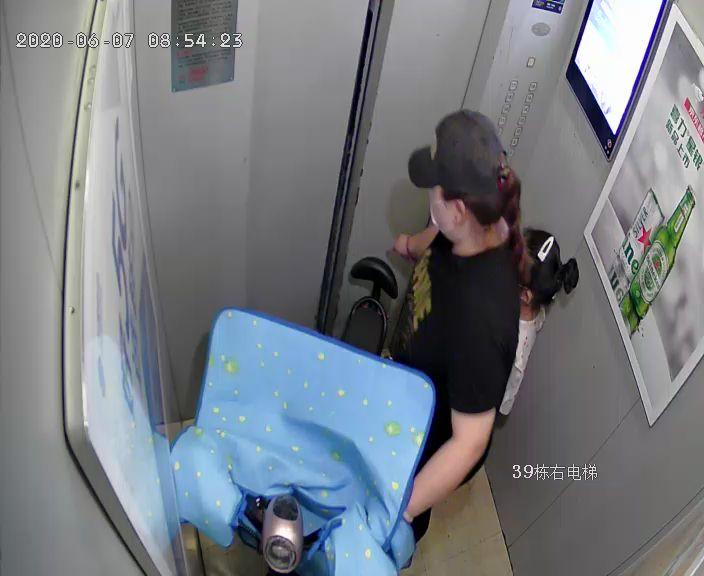Electric-bicycle: (255, 260, 397, 573)
